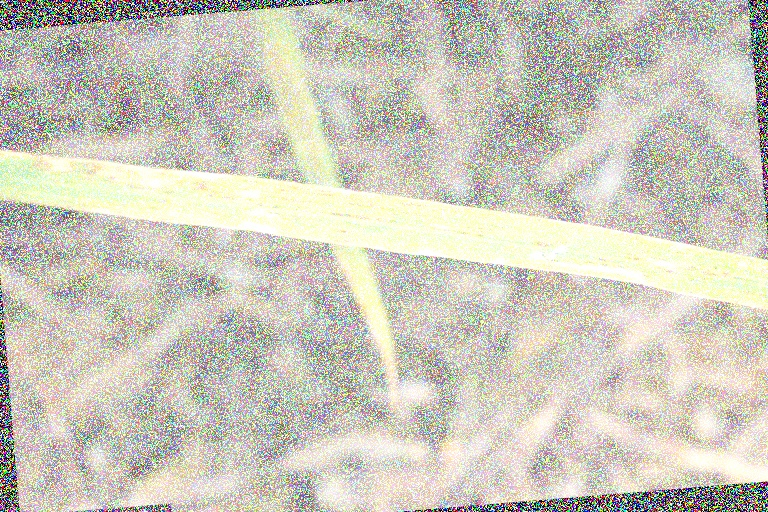Leaf_Blast: (41, 126, 649, 290)
